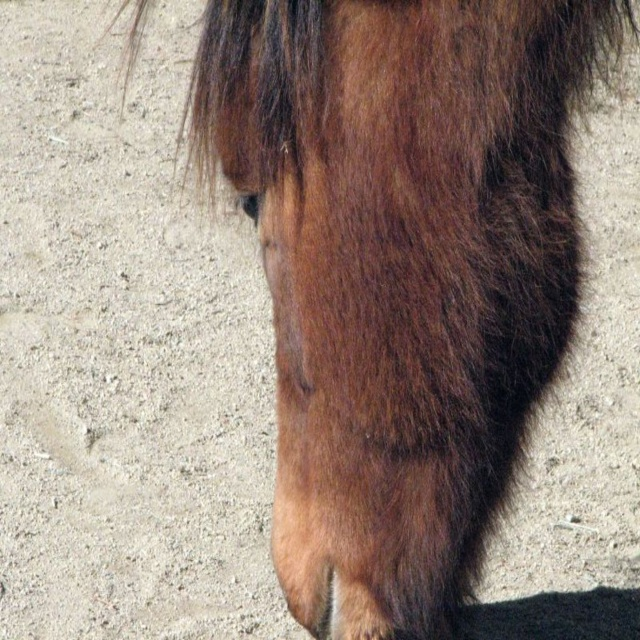Horse: (98, 0, 637, 639)
